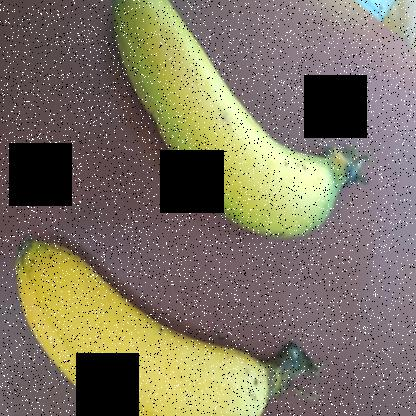freshripe: (100, 1, 365, 246), (0, 219, 281, 415)
